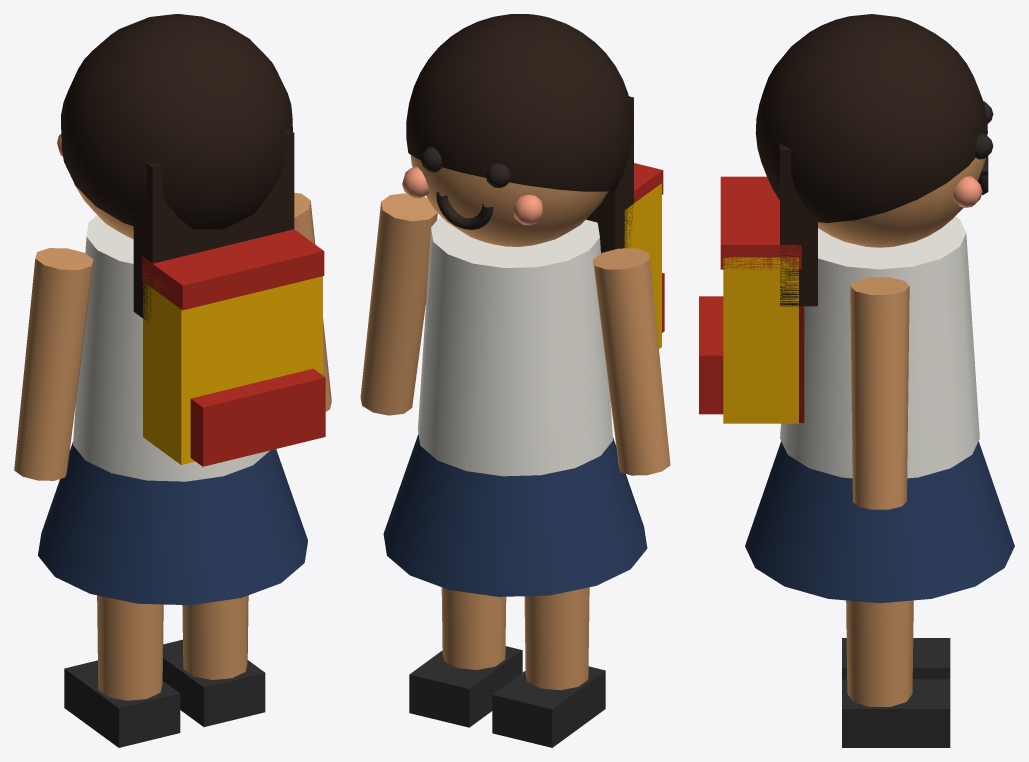
Rendered from visitor_2.fbx.
3 views of the same model, side by side, from view 1: azimuth 30°, elevation 25°; view 2: azimuth 150°, elevation 25°; view 3: azimuth 270°, elevation 25° (orthographic). The views are drawn at different scales.
Parts seen in each view (by area): view 1: M__visitor_2-body, M__visitor_2-armL, M__visitor_2-shinL, M__visitor_2-shinR, M__visitor_2-armR, M__visitor_2-legL; view 2: M__visitor_2-body, M__visitor_2-armL, M__visitor_2-armR, M__visitor_2-shinL, M__visitor_2-shinR, M__visitor_2-legL; view 3: M__visitor_2-body, M__visitor_2-armR, M__visitor_2-shinR, M__visitor_2-shinL, M__visitor_2-legR.
Boxes of the visible parts, bbox=[...] form: M__visitor_2-body: bbox=[38, 14, 325, 605]; M__visitor_2-armL: bbox=[14, 248, 93, 480]; M__visitor_2-shinL: bbox=[64, 601, 180, 747]; M__visitor_2-shinR: bbox=[162, 595, 265, 726]; M__visitor_2-armR: bbox=[294, 192, 331, 411]; M__visitor_2-legL: bbox=[97, 595, 159, 612]; M__visitor_2-body: bbox=[383, 14, 664, 596]; M__visitor_2-armL: bbox=[593, 248, 670, 475]; M__visitor_2-armR: bbox=[360, 193, 437, 415]; M__visitor_2-shinL: bbox=[492, 593, 605, 747]; M__visitor_2-shinR: bbox=[409, 587, 522, 727]; M__visitor_2-legL: bbox=[528, 587, 589, 603]; M__visitor_2-body: bbox=[699, 14, 1014, 603]; M__visitor_2-armR: bbox=[850, 277, 909, 509]; M__visitor_2-shinR: bbox=[842, 606, 950, 747]; M__visitor_2-shinL: bbox=[842, 638, 950, 679]; M__visitor_2-legR: bbox=[846, 600, 913, 619].
Size of the model in its own units: 0.6547 by 1.4 by 0.585.
